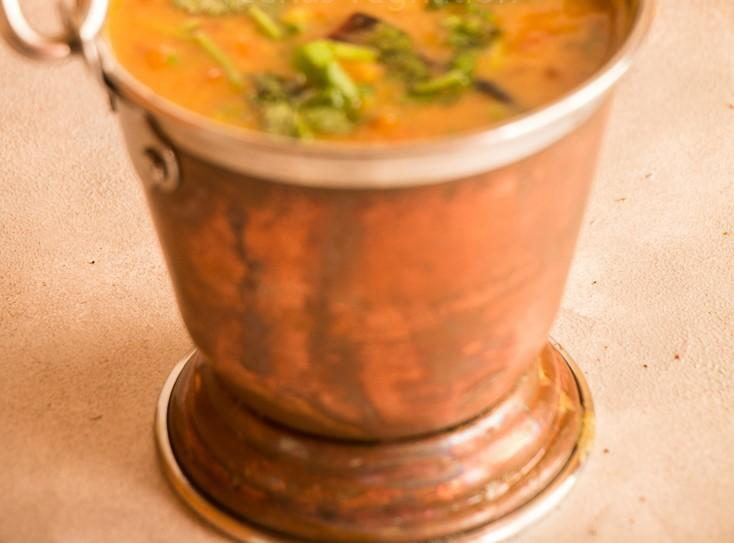Dal: (96, 0, 674, 179)
